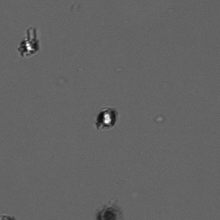Living Cell: (17, 32, 42, 57), (94, 106, 117, 130)
